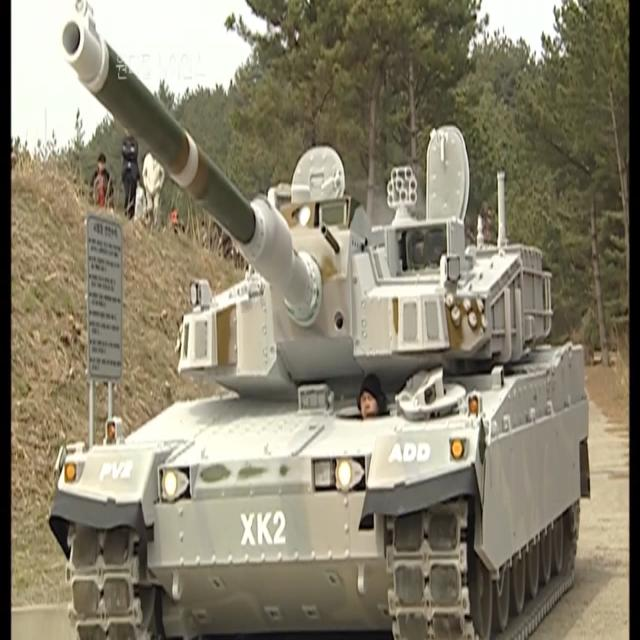korea tank: (46, 1, 592, 640)
